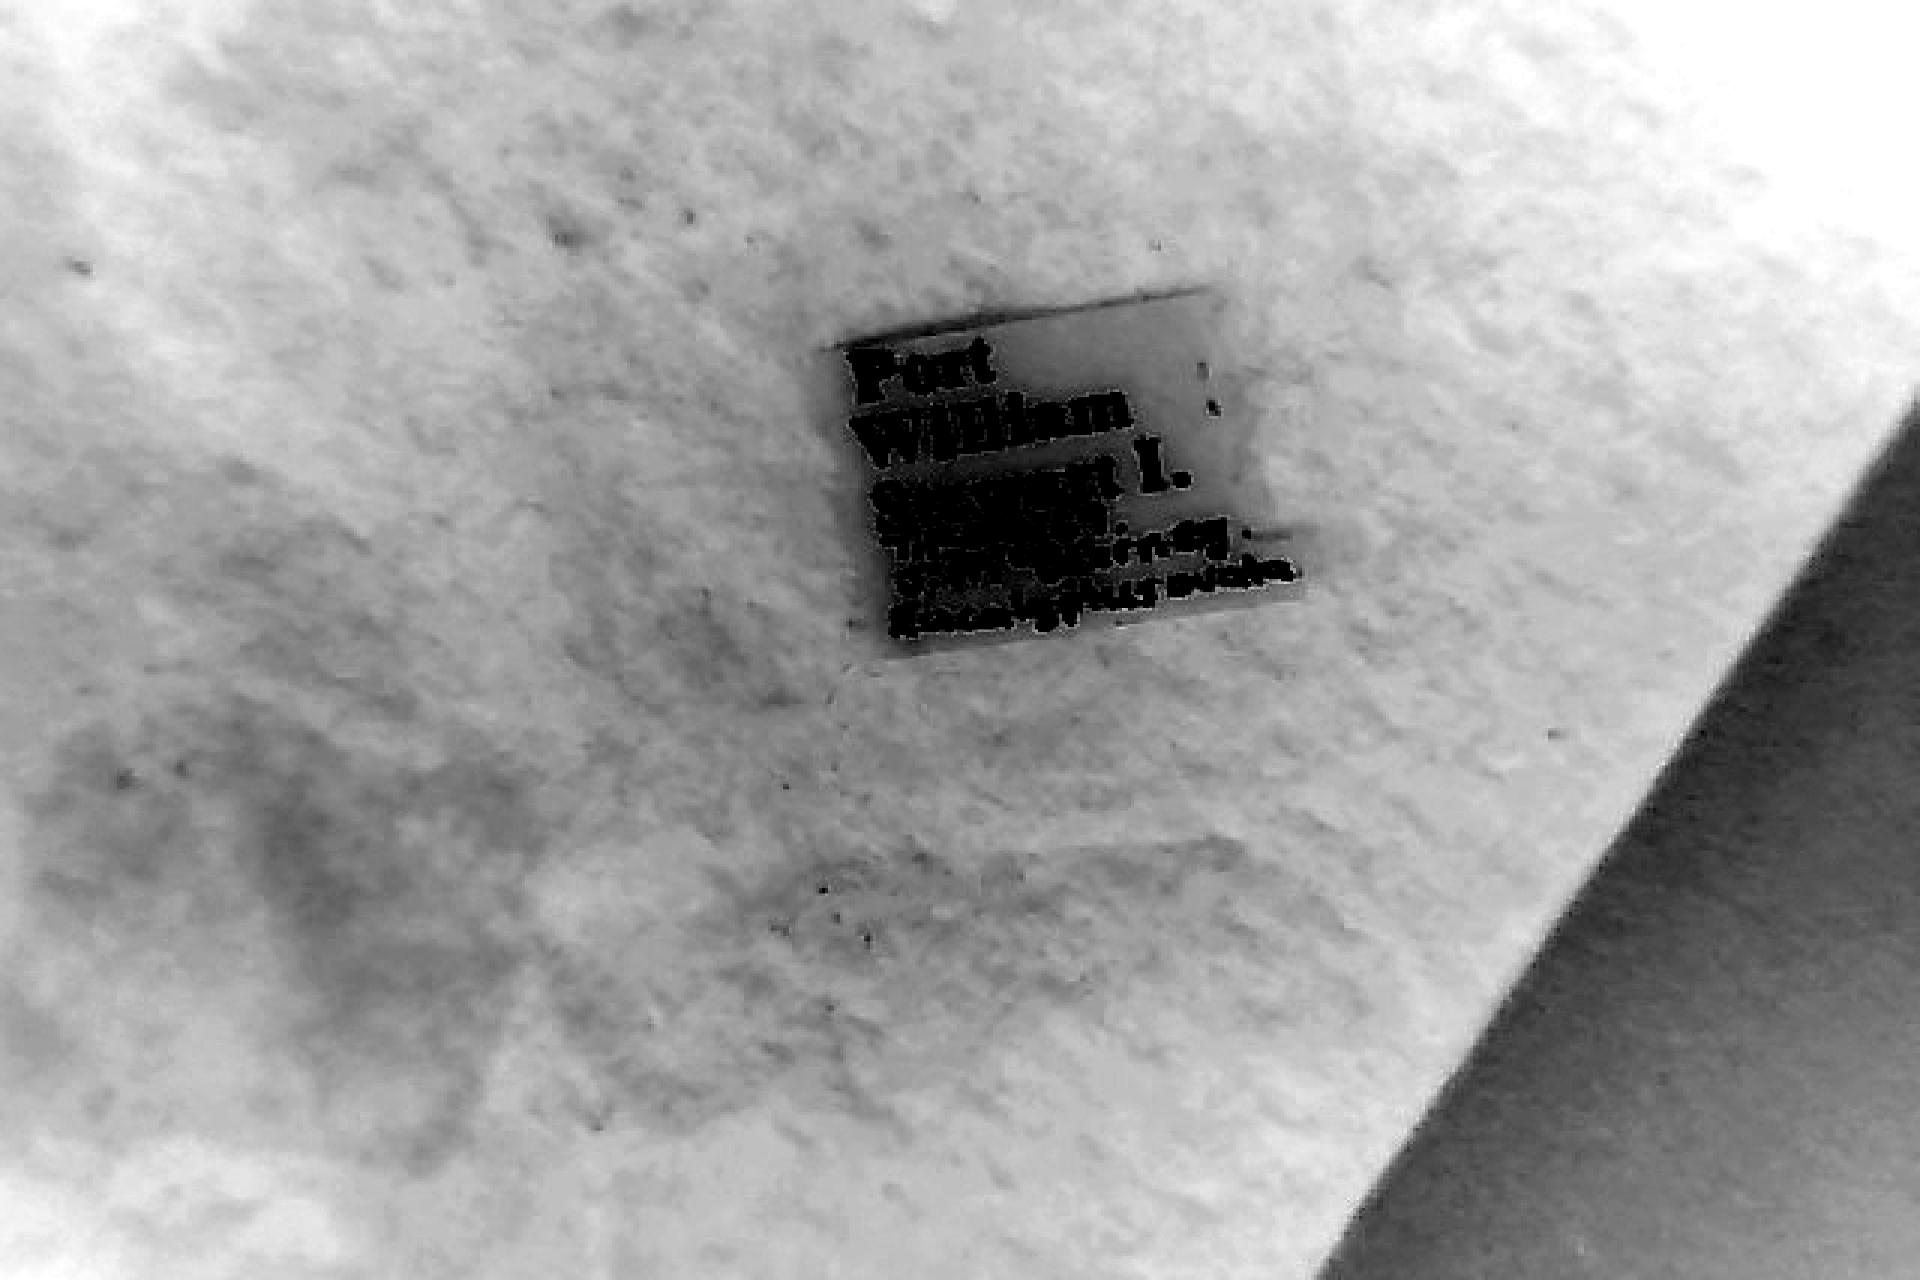mixed_label: (840, 293, 1301, 651)
